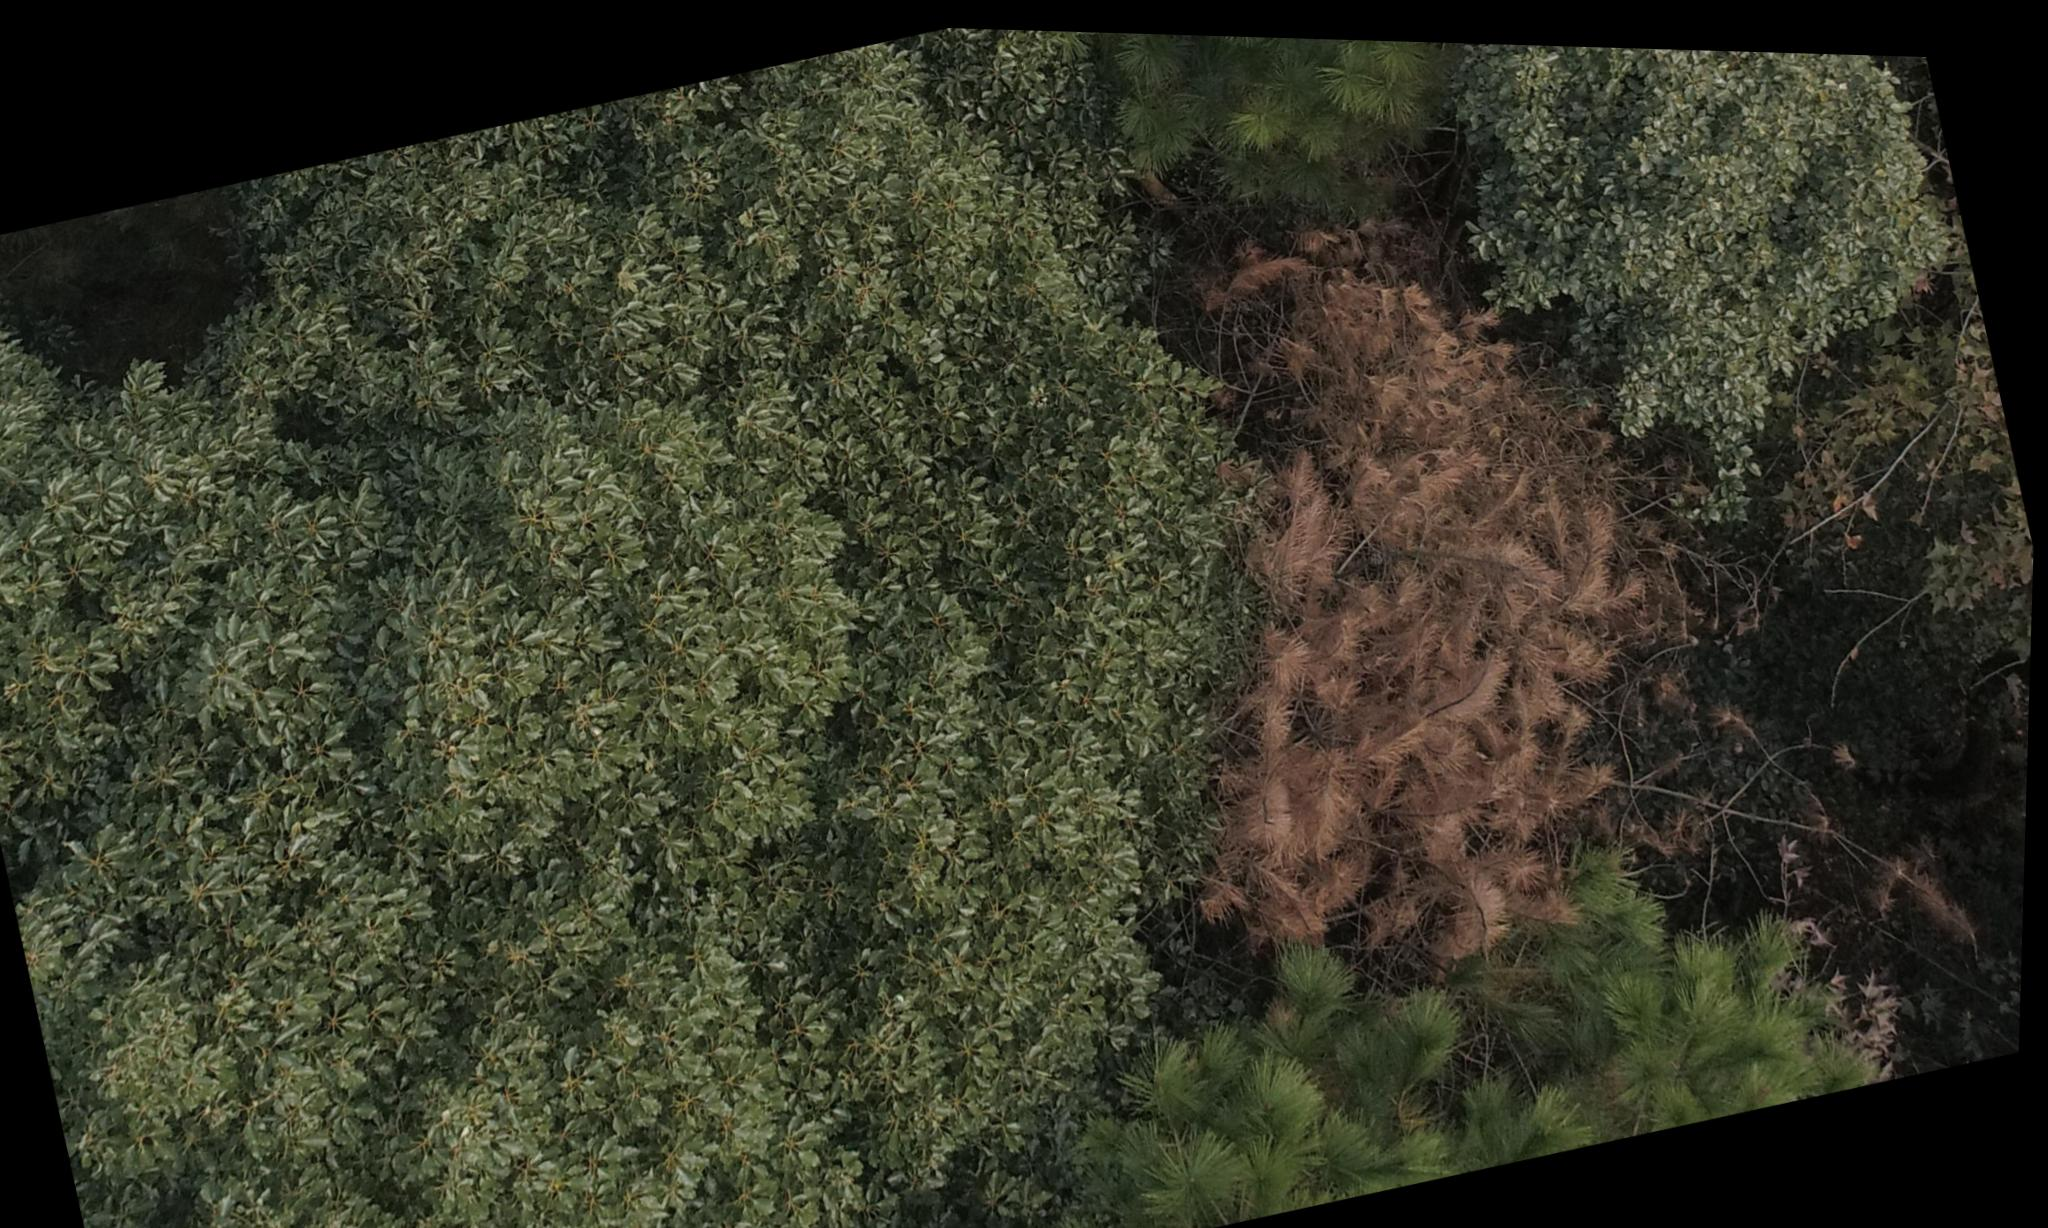heavy: (1053, 139, 1778, 1012)
